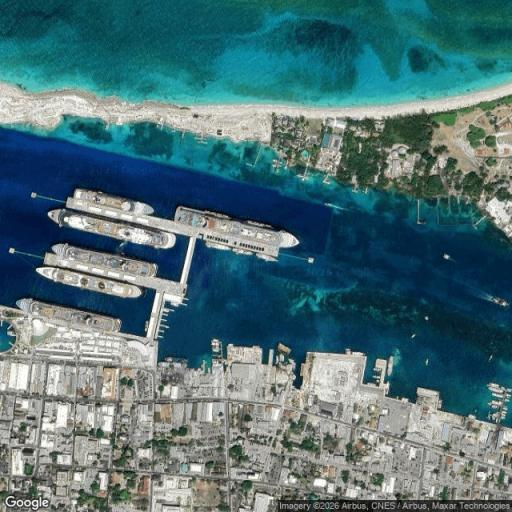ship: (175, 207, 299, 247), (48, 209, 175, 248), (48, 209, 175, 247), (52, 244, 157, 276), (16, 299, 120, 331), (36, 267, 142, 298), (74, 189, 153, 215), (205, 241, 276, 260), (242, 228, 299, 247), (260, 228, 299, 247), (488, 383, 509, 399), (211, 344, 223, 372), (369, 366, 383, 386), (246, 220, 272, 228), (204, 211, 229, 219), (206, 242, 230, 250), (490, 386, 510, 395), (492, 297, 509, 307), (325, 203, 349, 210), (297, 168, 309, 180), (345, 348, 365, 355), (211, 339, 221, 353), (232, 248, 252, 255), (257, 253, 276, 260), (195, 132, 207, 143), (488, 383, 504, 391), (387, 356, 393, 375), (488, 400, 502, 408), (372, 367, 380, 381), (490, 386, 504, 394), (273, 159, 283, 170), (494, 400, 505, 409), (495, 410, 506, 419), (489, 388, 503, 395), (491, 412, 503, 420), (488, 387, 503, 393), (493, 396, 505, 403), (488, 382, 502, 388), (488, 383, 499, 390), (492, 392, 503, 399), (323, 173, 330, 184), (7, 328, 16, 336), (502, 388, 510, 397), (488, 412, 498, 419), (500, 409, 507, 419), (384, 382, 389, 395), (500, 410, 507, 419), (164, 356, 173, 363), (488, 401, 498, 407), (504, 388, 510, 396), (504, 392, 510, 400), (505, 388, 511, 395), (410, 333, 417, 339), (502, 406, 508, 413), (443, 254, 451, 259), (503, 403, 508, 411), (273, 159, 279, 165), (145, 321, 148, 332), (488, 355, 493, 361), (504, 398, 509, 403), (505, 388, 511, 392), (425, 359, 428, 366), (424, 316, 428, 321), (364, 187, 367, 193), (500, 399, 504, 403), (284, 165, 287, 170), (488, 413, 490, 420)
